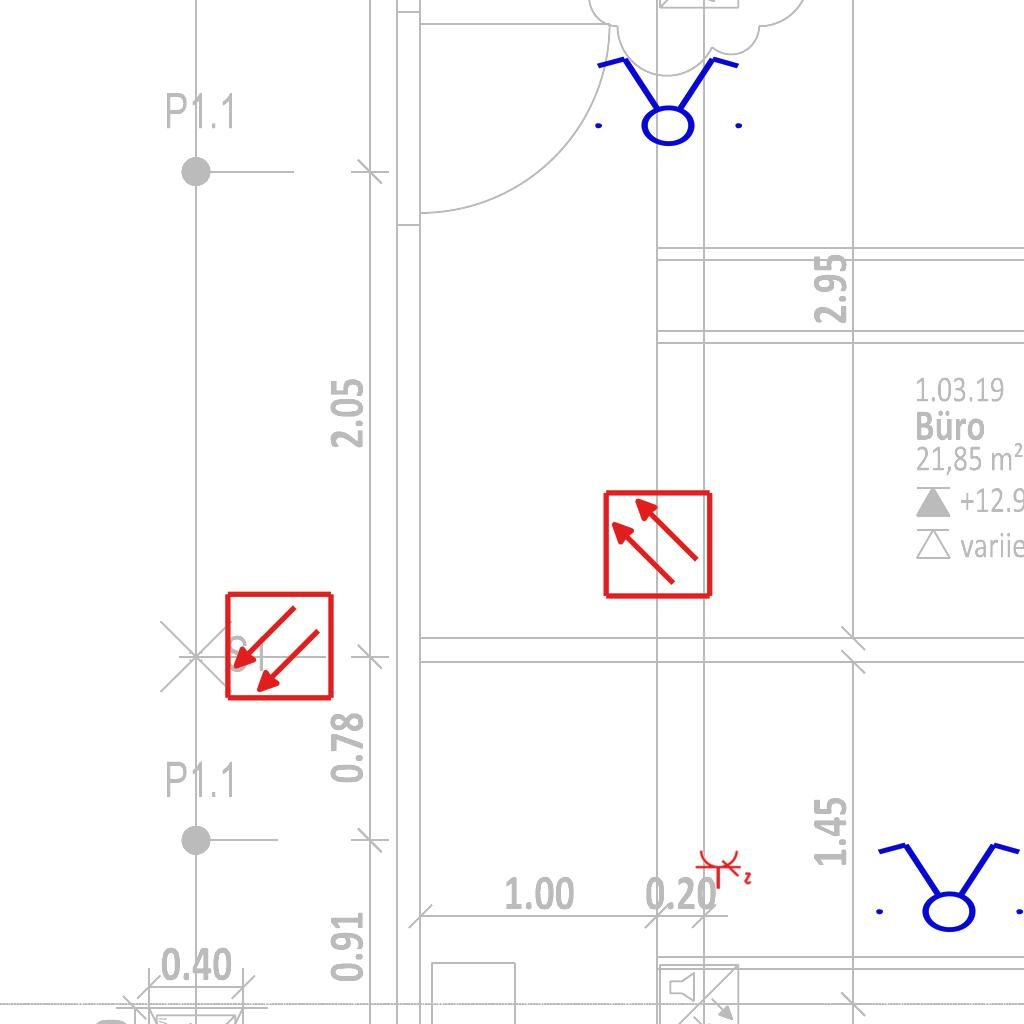RMO_Rauchmelder_optischer: (601, 488, 714, 601), (223, 590, 336, 703)
Schukosteckdose_mehrfach: (693, 848, 753, 892)
Serienschalter: (583, 52, 751, 148), (864, 838, 1024, 934)
